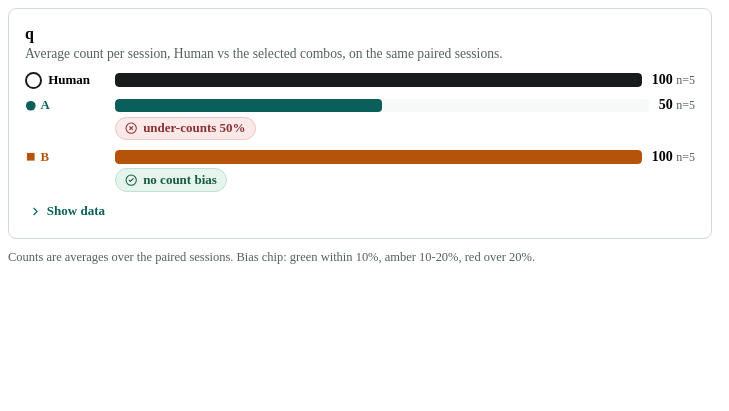
Test case: keeps the data table behind Show data and has one muted note
Click the button "Show data": coordinates (67, 211) [25, 201, 109, 222]
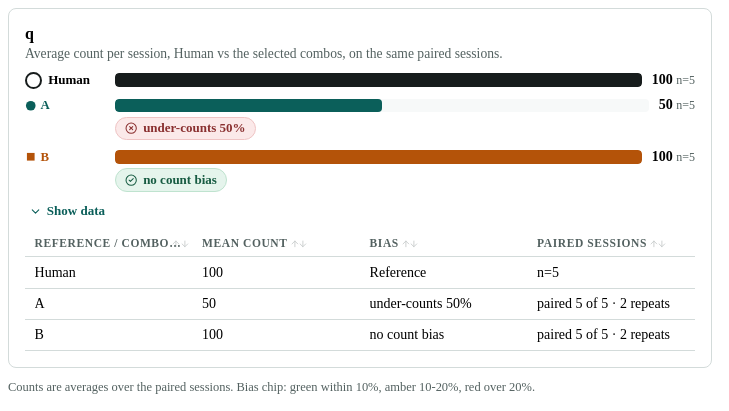
Expected: the number of elements with class "ui-note" is 1, [8, 380, 535, 394]
Result: the table named "q counts" shows "paired 5 of 5 · 2 repeats" at [537, 296, 670, 311]
